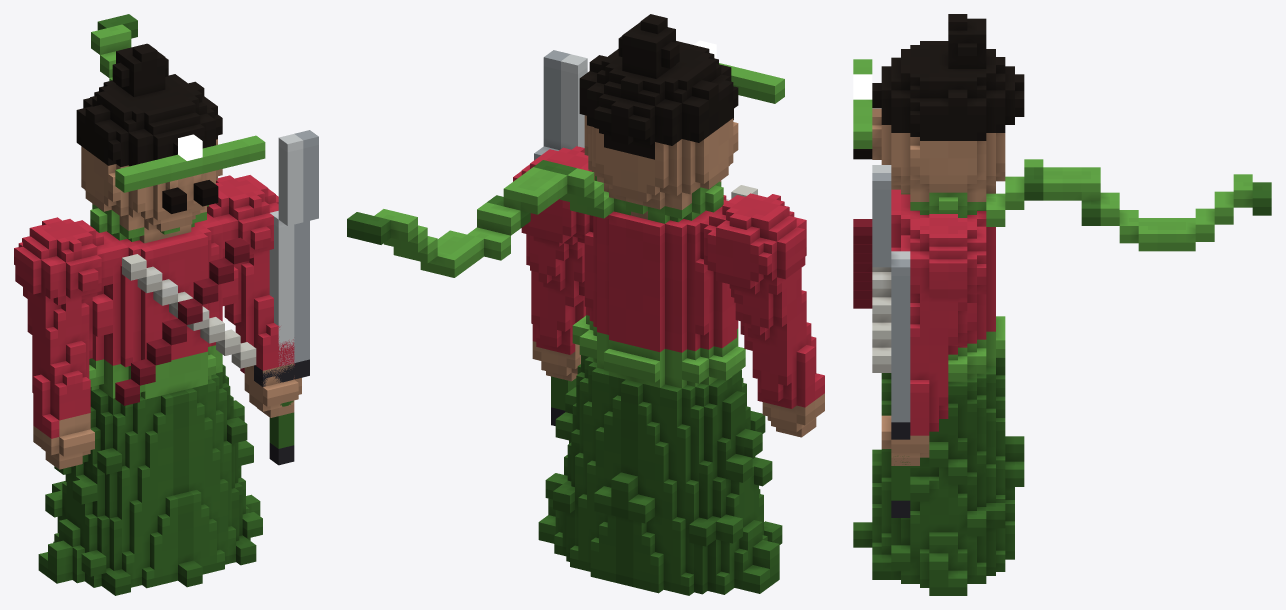
File: u_moine__lame.glb
The picture shows the model from 3 angles, left to right: view 1: azimuth 30°, elevation 25°; view 2: azimuth 150°, elevation 25°; view 3: azimuth 270°, elevation 25°; orthographic projection. The views are drawn at different scales.
Parts seen in each view (by area): view 1: moine_body, moine_weapon, moine_glow; view 2: moine_body, moine_weapon; view 3: moine_body, moine_weapon.
Part boxes in pixels (<box>): moine_body: <box>14,14,301,595</box>; moine_weapon: <box>254,130,318,465</box>; moine_glow: <box>178,134,202,160</box>; moine_body: <box>347,14,824,595</box>; moine_weapon: <box>534,50,587,425</box>; moine_body: <box>853,14,1271,595</box>; moine_weapon: <box>872,165,910,517</box>.
Size of the model in its own units: 0.825 by 1.53 by 1.1.
